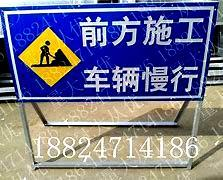sign: (3, 7, 215, 100)
